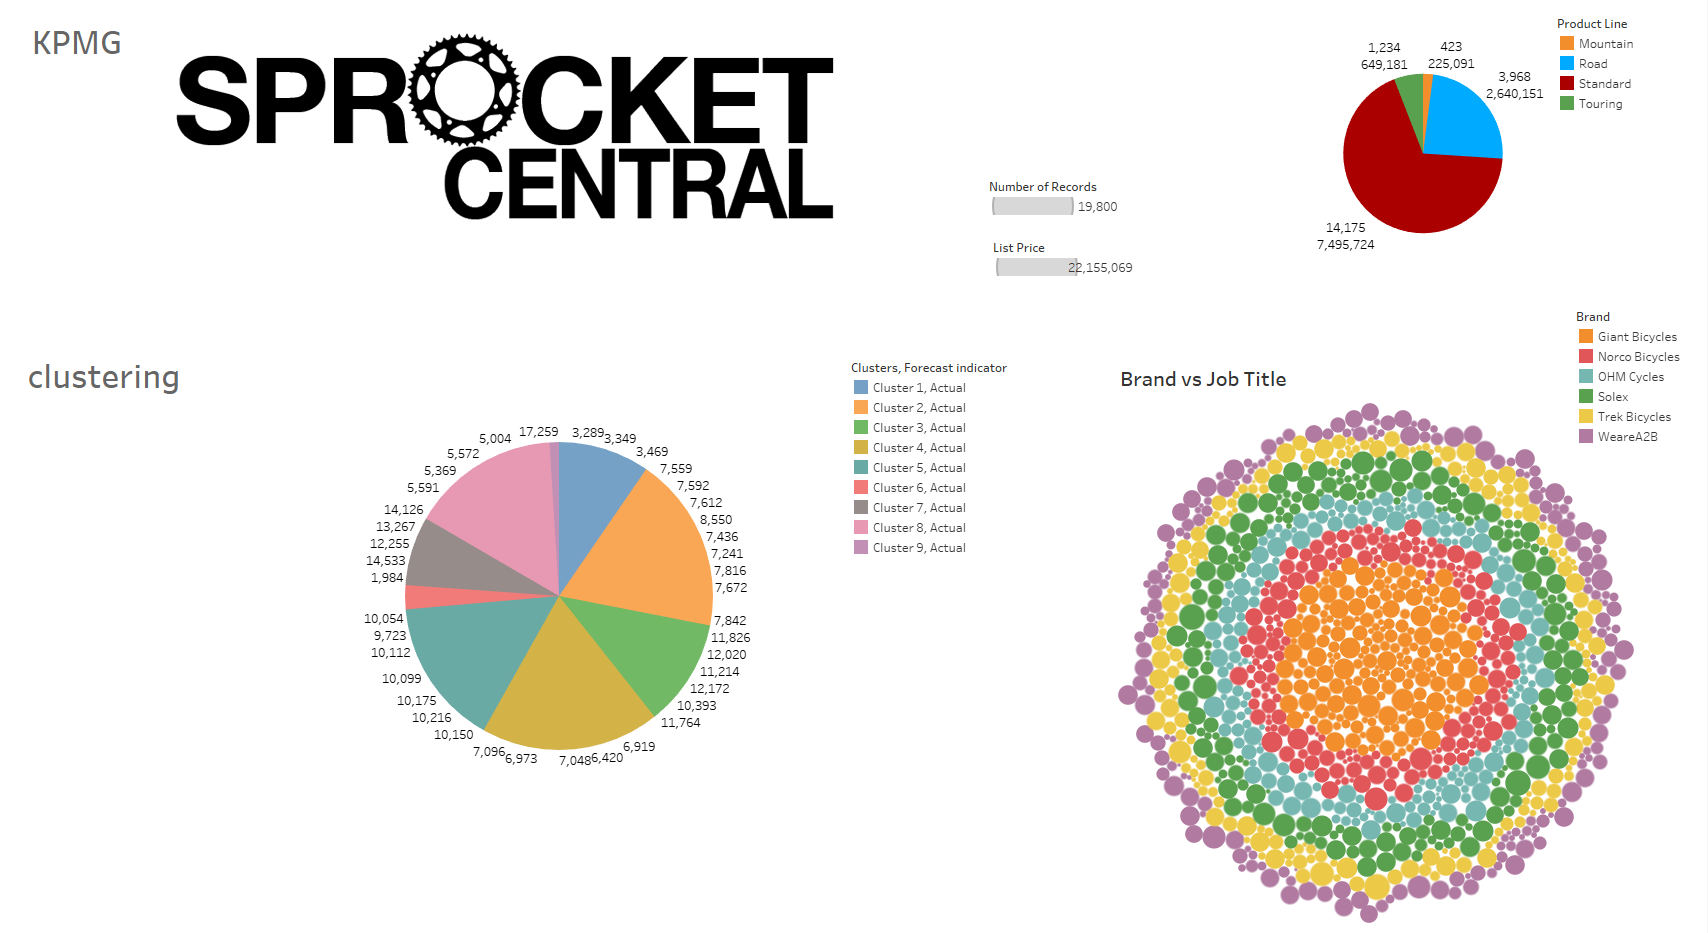

Layout of this report page (visuals, bound fields, positions):
{"tool":"tableau","page":{"name":"Dashboard 3","canvas":[1000,1000],"units":"permille","ordinal":2},"visuals":[{"type":"text","box":[18.1,16,73,63]},{"type":"legend","title":"Sheet 7","param":"[federated.10zzsdp0hoaa021cgm0eb0f26sjg].[none:product_line:nk]","box":[912.5,19.5,84.5,121.4]},{"type":"image","param":"Image/sprocket_central_logo.png","box":[103.2,37.8,397.1,258.9]},{"type":"legend","title":"Sheet 7","param":"[federated.10zzsdp0hoaa021cgm0eb0f26sjg].[sum:Number of Records:qk]","box":[580,191.3,84.5,49.3]},{"type":"legend","title":"Sheet 9","param":"[federated.10zzsdp0hoaa021cgm0eb0f26sjg].[fVal:sum:list_price:qk]","box":[582.4,256.6,84.5,49.3]},{"type":"worksheet","title":"Sheet 9","mark":"Pie","box":[4.1,308.3,648.3,652.5]},{"type":"text","box":[15.7,348.2,150.3,104.2]},{"type":"legend","title":"Sheet 9","param":"[federated.10zzsdp0hoaa021cgm0eb0f26sjg].[none:AdhocCluster:1:ok]\n[federated.10z","box":[499.1,383.7,112.2,276.1]}]}

Visuals, with their boxes on the dashboard's canvas, which has no fixed pixel size, in thousandths of its width and height (x1, y1, x2, y2). These are canvas units, not pixel positions in the 1708x933 screenshot, which may show the page scaled, cropped or inside an application window:
text: box=[18, 16, 91, 79]
"Sheet 7" legend: box=[912, 20, 997, 141]
image: box=[103, 38, 500, 297]
"Sheet 7" legend: box=[580, 191, 664, 241]
"Sheet 9" legend: box=[582, 257, 667, 306]
"Sheet 9" worksheet (Pie marks): box=[4, 308, 652, 961]
text: box=[16, 348, 166, 452]
"Sheet 9" legend: box=[499, 384, 611, 660]
